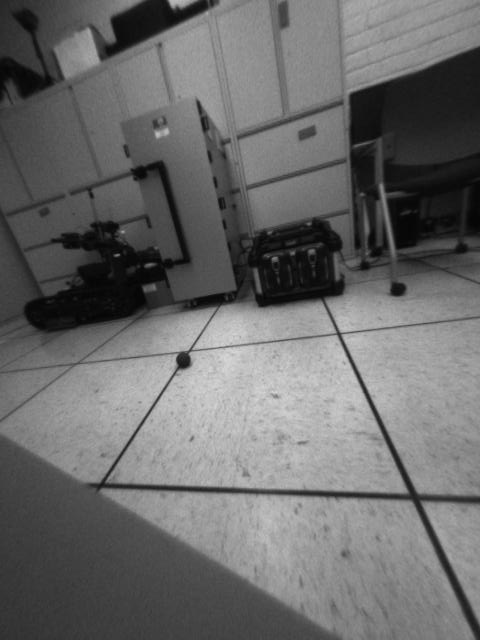dogtoy: (166, 345, 198, 372)
